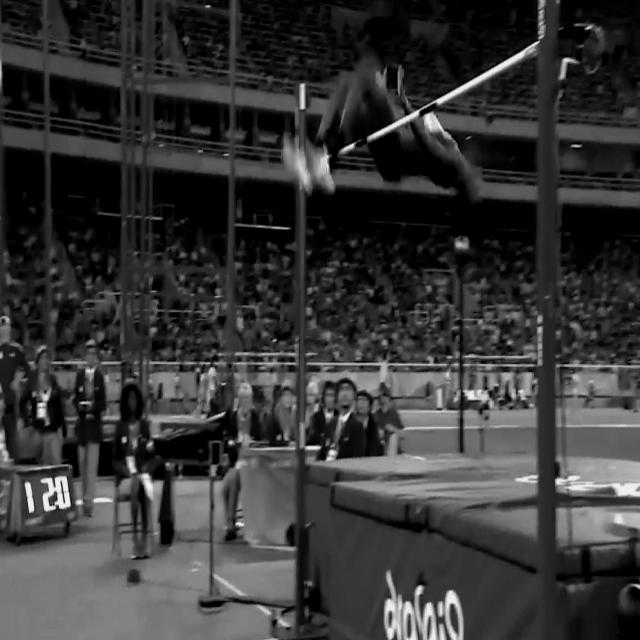jump: (281, 55, 486, 208)
